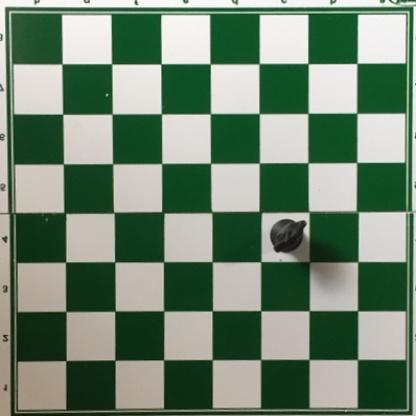black-knight: (267, 218, 309, 254)
